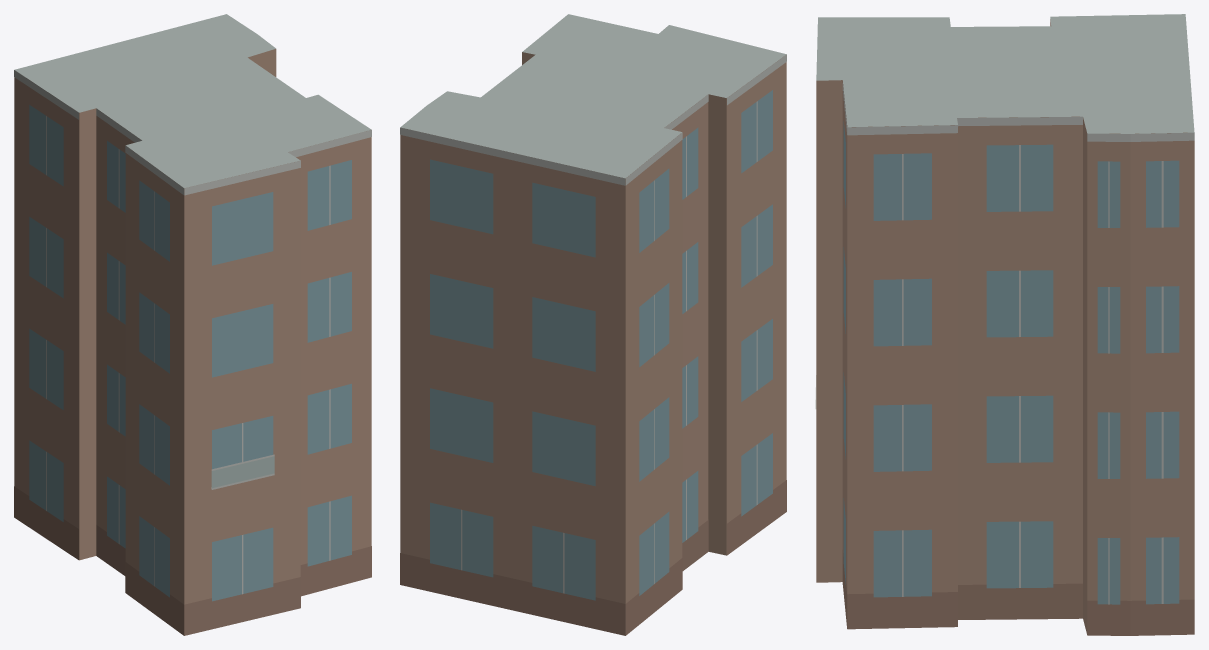
File: survey-upis-32474064.glb
The picture shows the model from 3 angles, left to right: view 1: azimuth 30°, elevation 25°; view 2: azimuth 150°, elevation 25°; view 3: azimuth 270°, elevation 25°; orthographic projection. The views are drawn at different scales.
Parts seen in each view (by area): view 1: survey-upis-32474064.tmp; view 2: survey-upis-32474064.tmp; view 3: survey-upis-32474064.tmp.
Part boxes in pixels (x1=…): survey-upis-32474064.tmp: x1=14, y1=14, x2=371, y2=635; survey-upis-32474064.tmp: x1=400, y1=14, x2=786, y2=635; survey-upis-32474064.tmp: x1=815, y1=14, x2=1194, y2=635.
Bounding box in the file's own units: 7.69 × 15 × 10.28.
